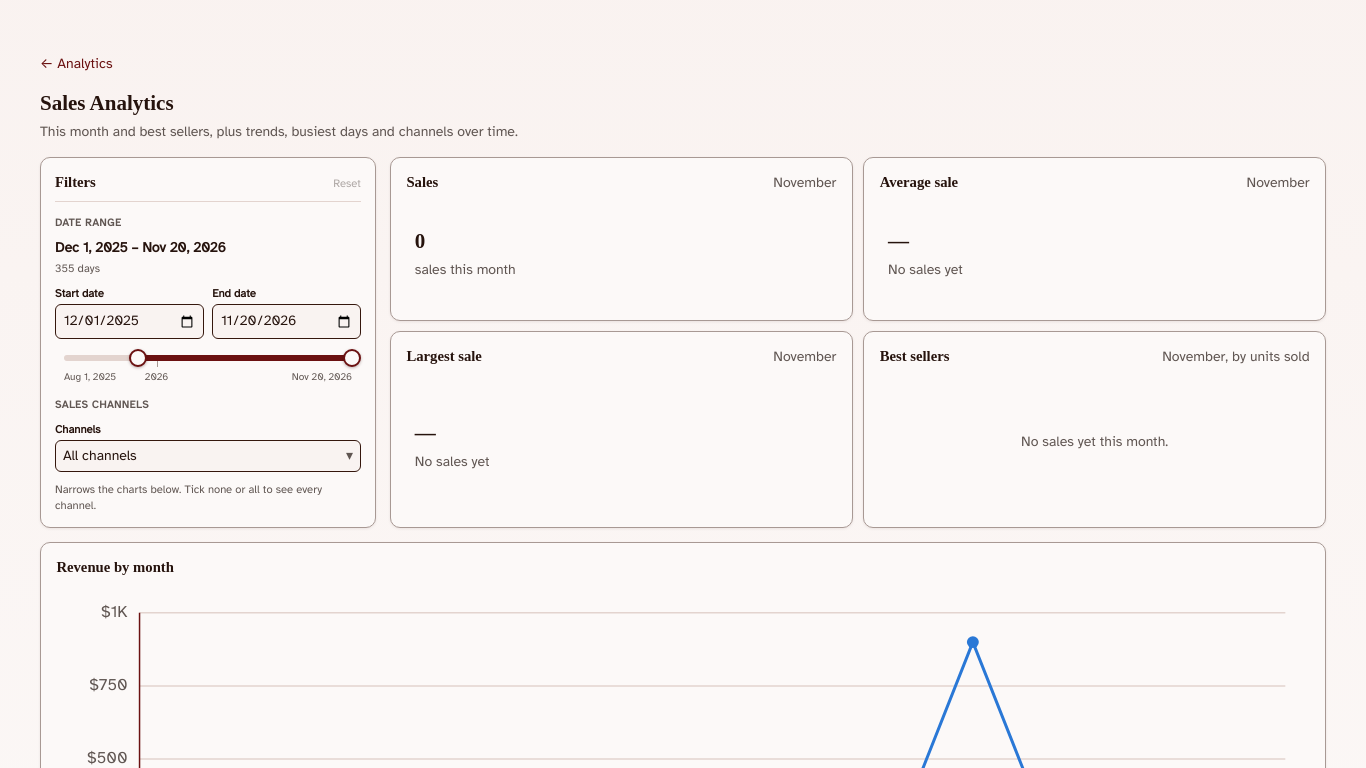
SalesAnalyticsPage charts › channel filter › shows every channel with all of them ticked, as with none
Later steps or results of the test are not shown.
Click the button named "Channels All channels". click: x=100, y=456
box: [55, 440, 361, 472]
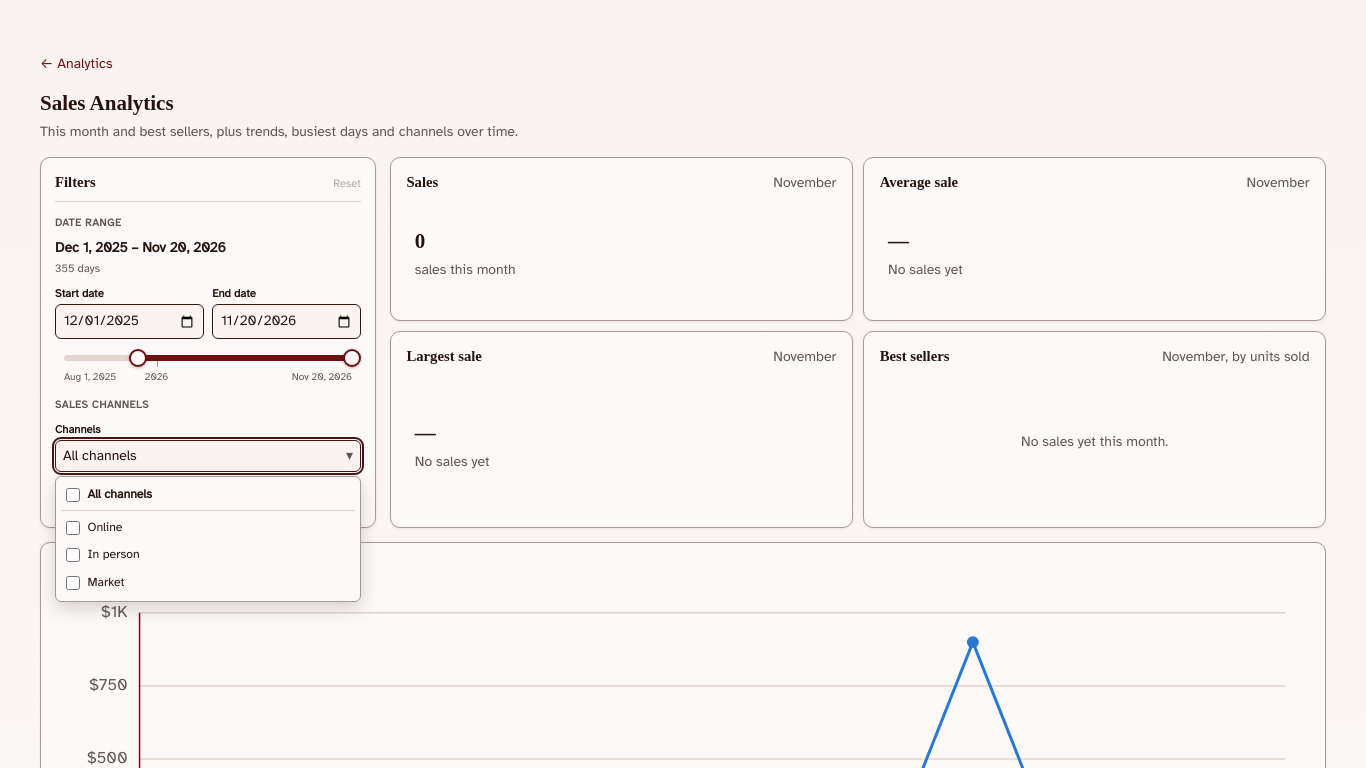
Click the checkbox labelled "All channels". click: x=74, y=495
box: [66, 488, 80, 502]
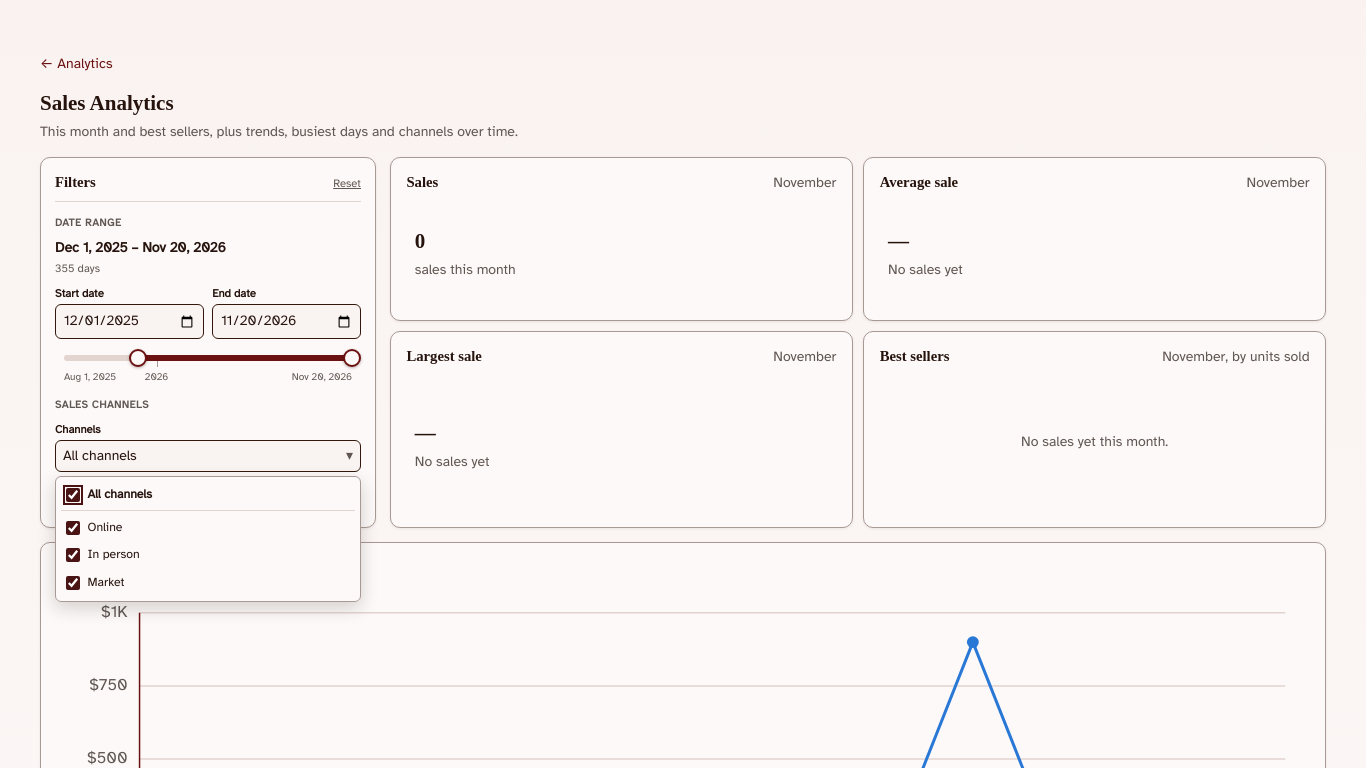
Expected: the checkbox labelled "Online" is checked, [66, 520, 80, 534]
Expected: the checkbox labelled "In person" is checked, [66, 548, 80, 562]
Expected: the checkbox labelled "Market" is checked, [66, 576, 80, 590]
